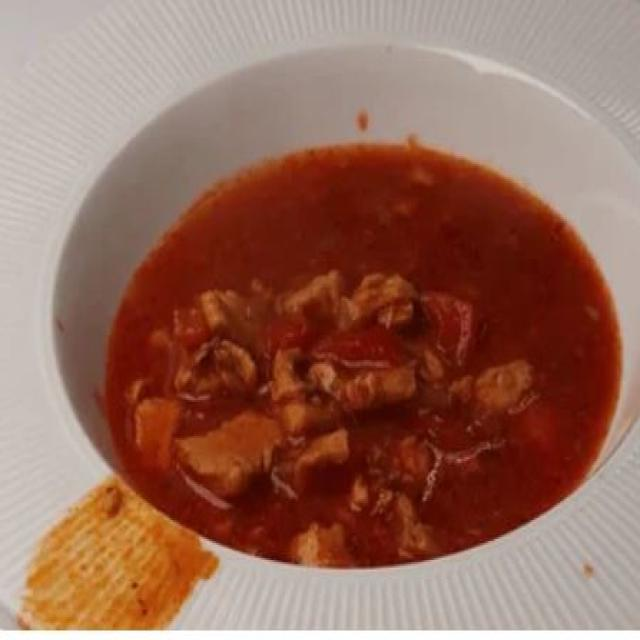kamouniya: (45, 56, 609, 563)
